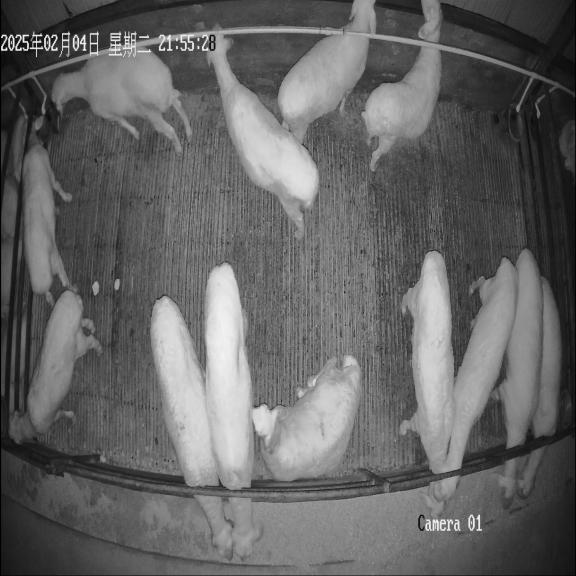drinking: (51, 36, 192, 154), (17, 115, 72, 306)
eating: (150, 296, 233, 559), (429, 257, 518, 502), (204, 262, 262, 558), (399, 250, 458, 516), (491, 249, 543, 502), (516, 277, 562, 498)
lying: (253, 355, 362, 481)
stand: (203, 24, 319, 238), (9, 289, 102, 443), (277, 0, 376, 144), (361, 0, 442, 171)
